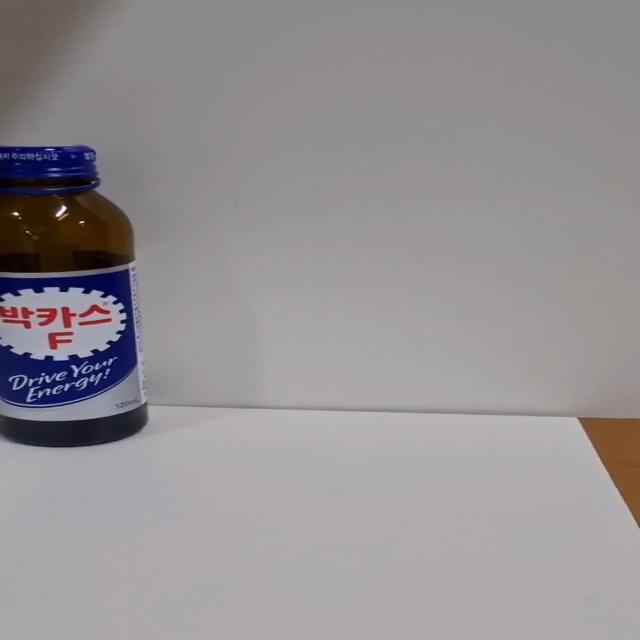Glass: (0, 146, 150, 450)
